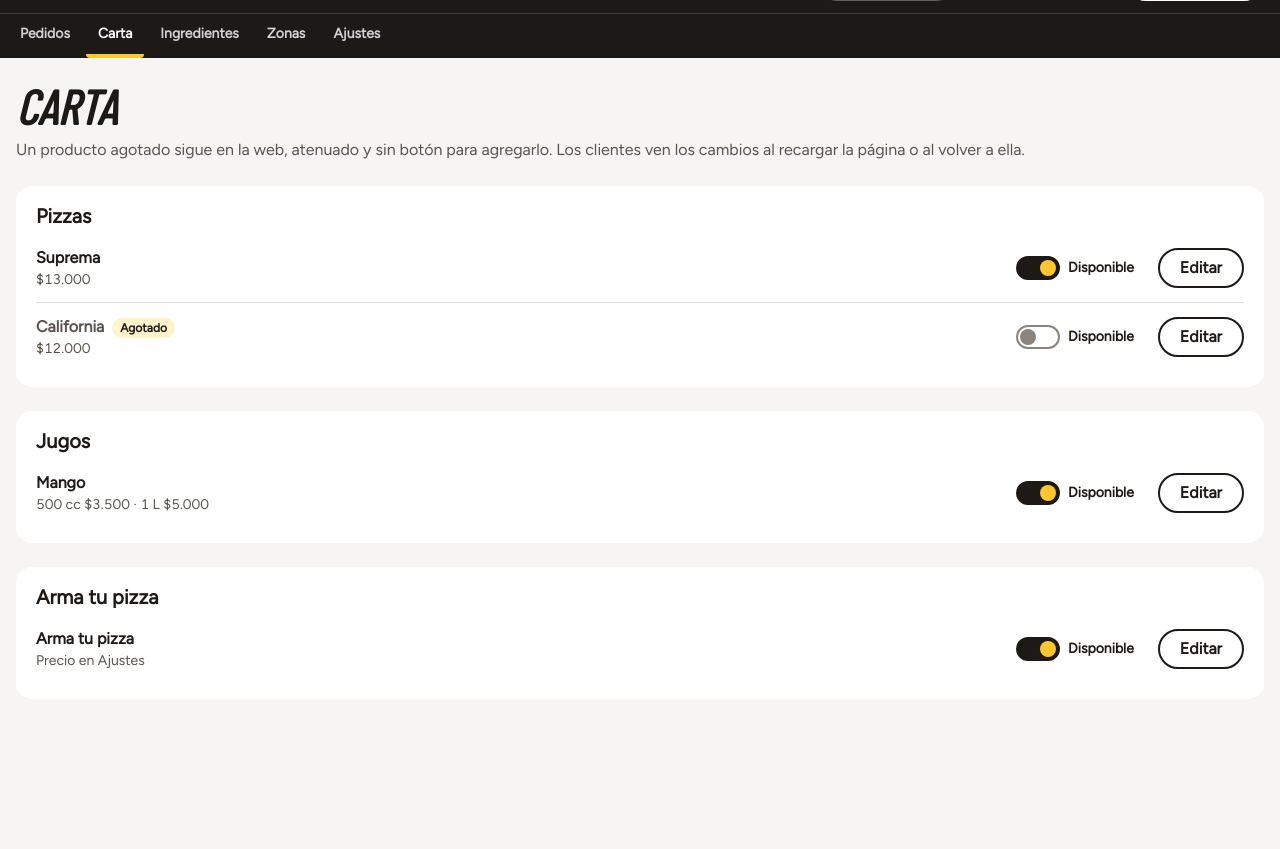
/carta › un producto con variantes edita el nombre y el precio de cada variante
expect the heading "Carta" is shown: met, box [16,77,116,135]
Click the button named "Editar Mango" at (1201,493), box [1158,473,1244,513]
(page scrolled)
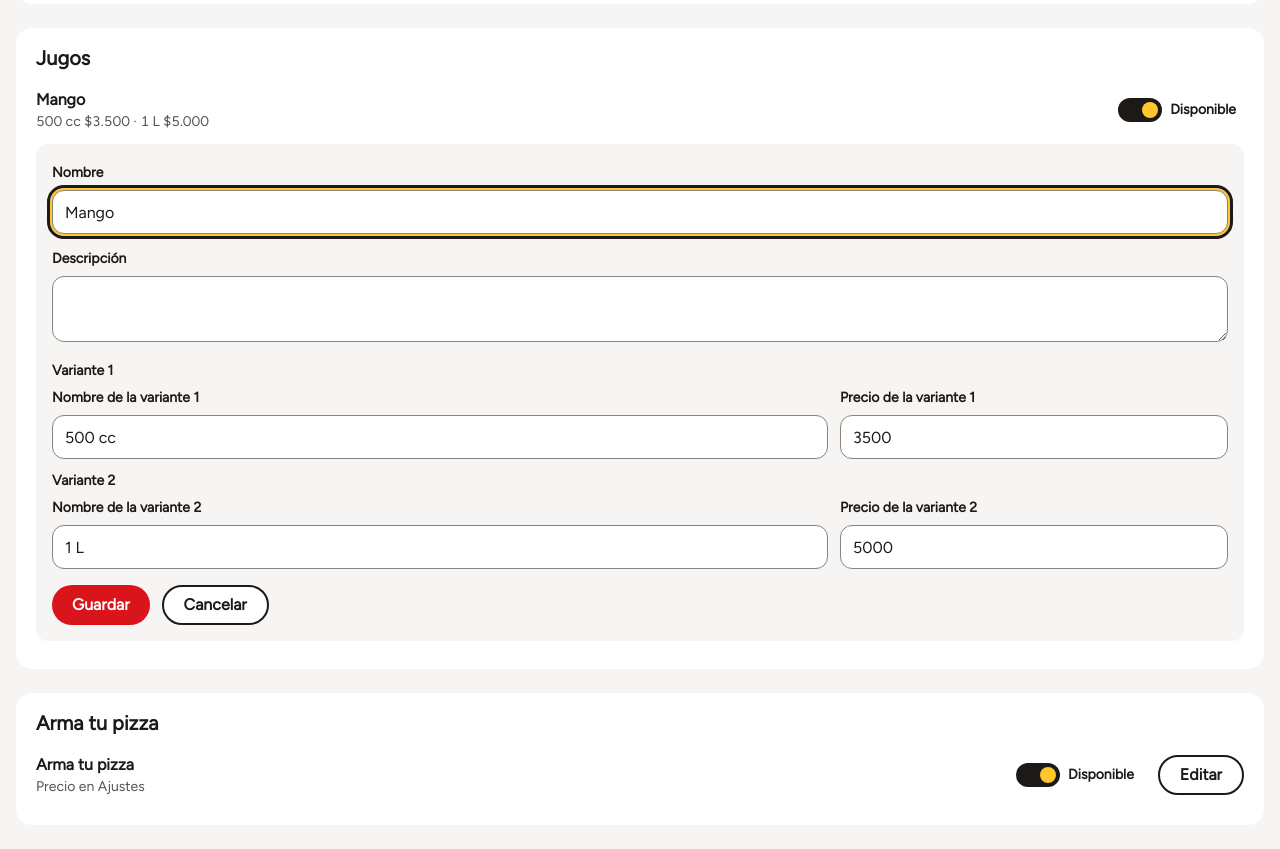
expect the field labelled "Nombre de la variante 1" holds "500 cc": met, box [52,415,828,459]
Replace the text in the field labelled "Precio de la variante 2" with "5500" at (1034,547), box [840,525,1228,569]
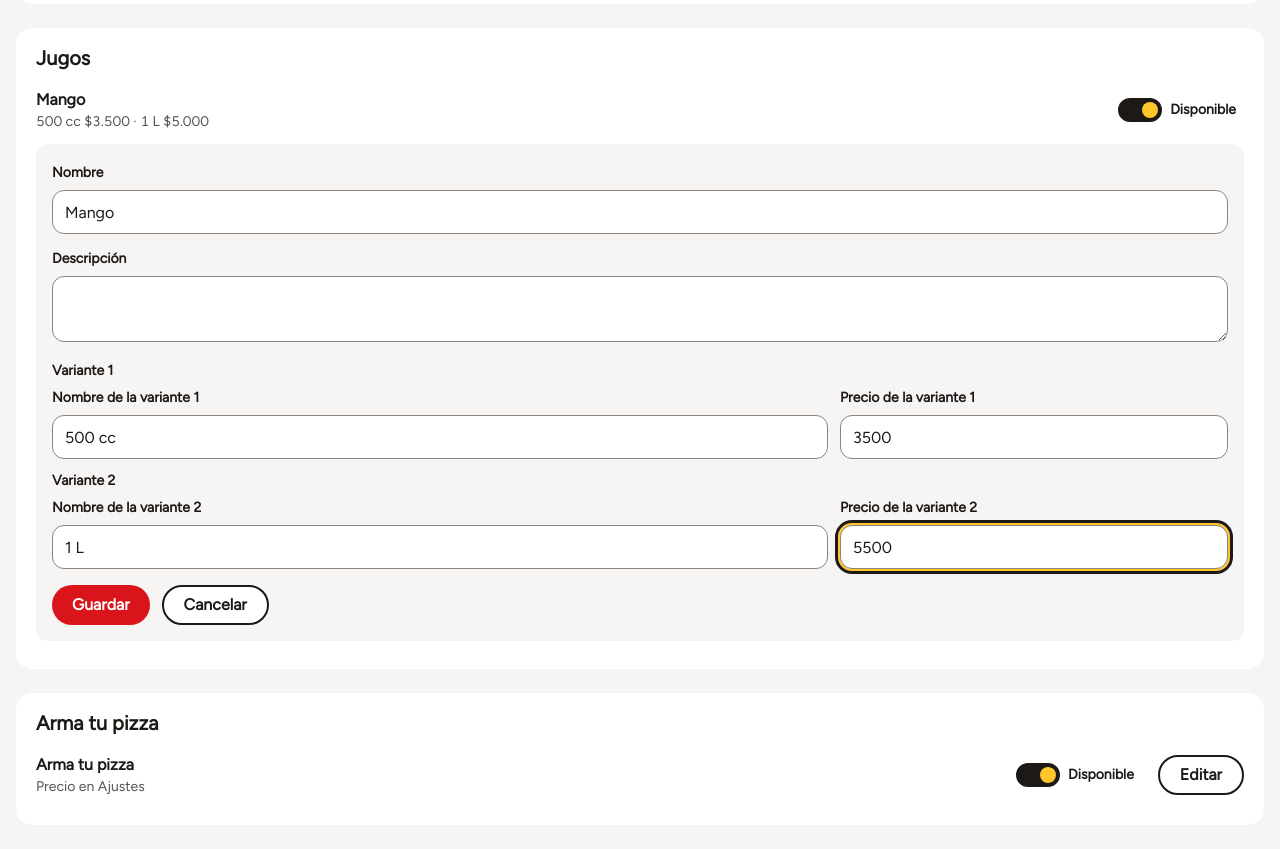
Click the button "Guardar" at (101,605), box [52,585,150,625]
(page scrolled)
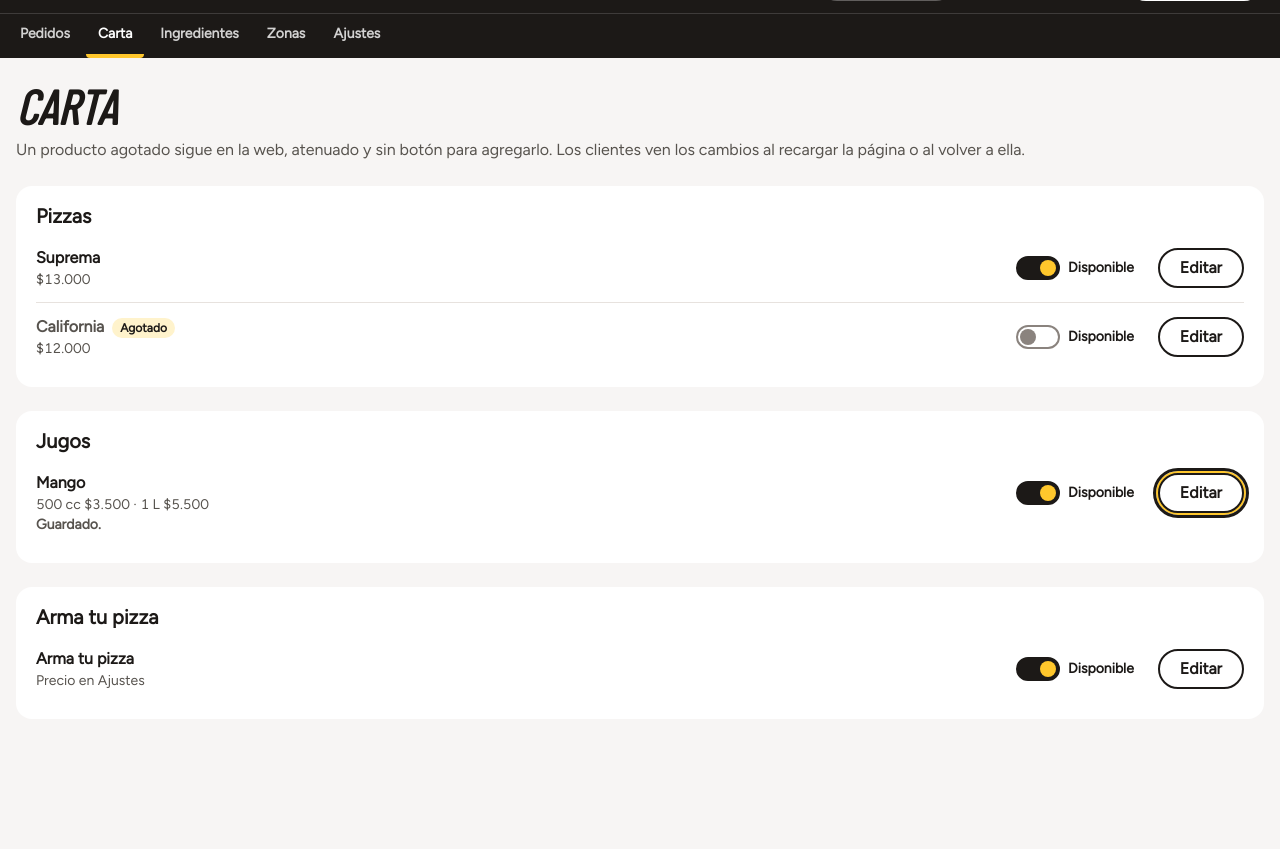
expect the text "500 cc $3.500 · 1 L $5.500" is shown: met, box [36,496,209,513]
